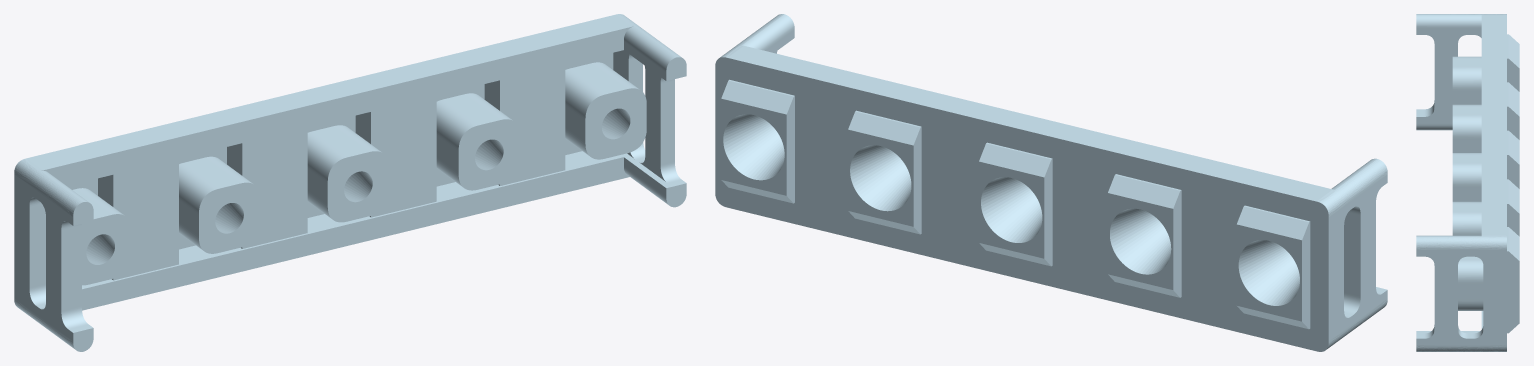
File: Container.fbx
The picture shows the model from 3 angles, left to right: view 1: azimuth 30°, elevation 25°; view 2: azimuth 150°, elevation 25°; view 3: azimuth 270°, elevation 25°; orthographic projection. The views are drawn at different scales.
Parts seen in each view (by area): view 1: imagetostl_mesh0; view 2: imagetostl_mesh0; view 3: imagetostl_mesh0.
Part boxes in pixels (x1=…): imagetostl_mesh0: x1=14, y1=14, x2=686, y2=351; imagetostl_mesh0: x1=715, y1=14, x2=1387, y2=351; imagetostl_mesh0: x1=1416, y1=14, x2=1519, y2=351.
Size of the model in its own units: 15000 by 3500 by 2850.
